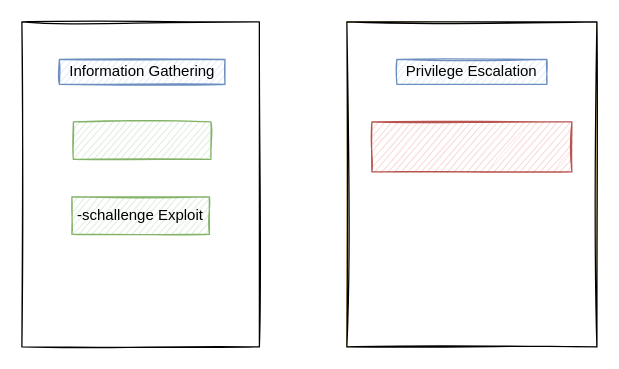
This 619x369 diagram has some shape labels left out. The centre of each missing label's shape, as x and y in pixels:
"S/Key Exploitation" goes at (471,146).
"Web Enumeration" goes at (141,140).
